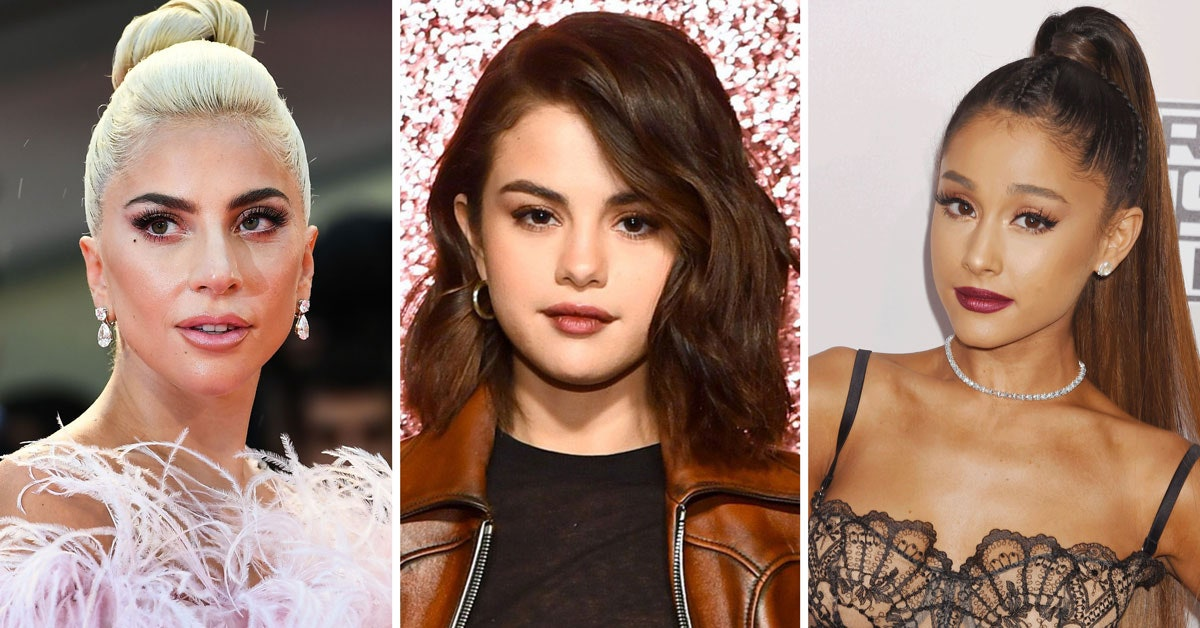NoMask: (113, 179, 292, 393), (487, 171, 660, 381), (933, 161, 1077, 349)
